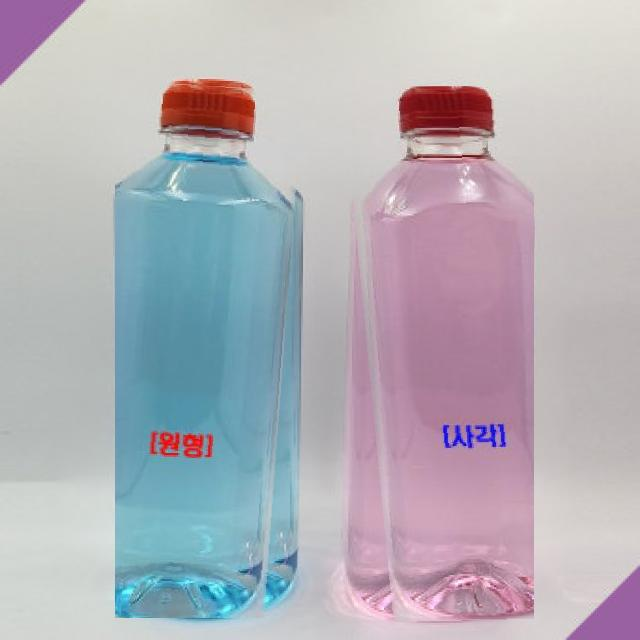plastic bottle: (342, 86, 534, 622), (115, 80, 303, 618)
